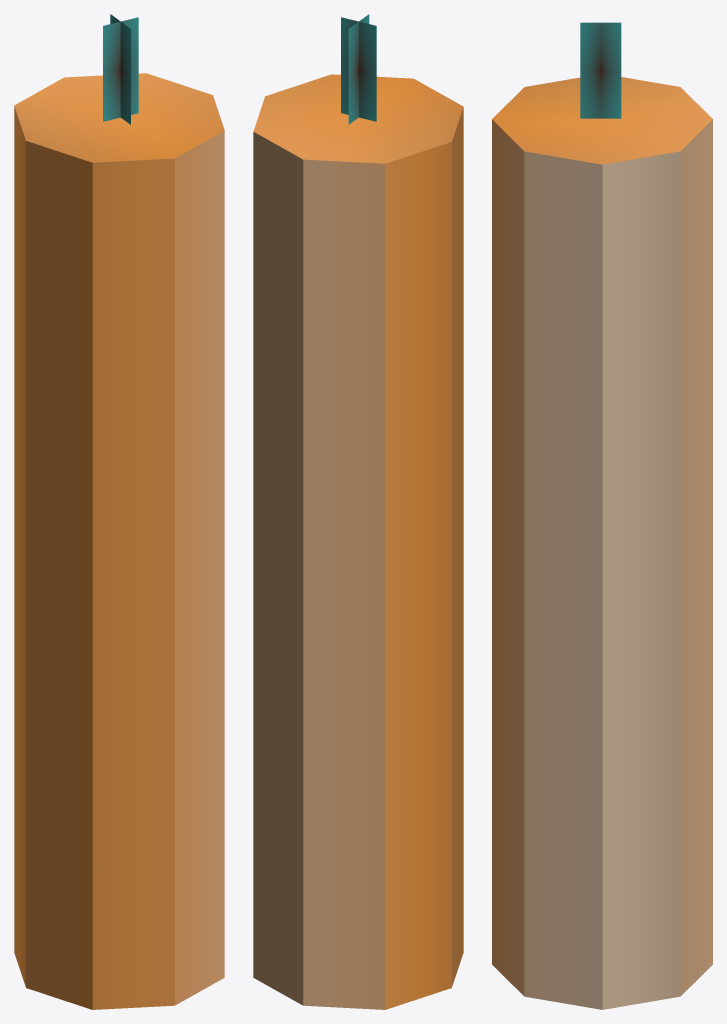
The model's file is candle_336x00.obj.
3 renders of one model, left to right at view 1: azimuth 30°, elevation 25°; view 2: azimuth 150°, elevation 25°; view 3: azimuth 270°, elevation 25°, orthographic.
Visible parts, largest first — view 1: candle_336x0; view 2: candle_336x0; view 3: candle_336x0.
Boxes of the visible parts, <box> form: candle_336x0: <box>14,14,224,1009</box>; candle_336x0: <box>253,14,463,1009</box>; candle_336x0: <box>492,22,712,1009</box>.
Bounding box in the file's own units: 0.2172 × 1.05 × 0.2228.
